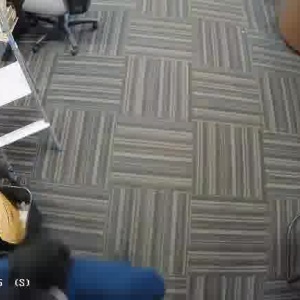person: (1, 241, 152, 299)
